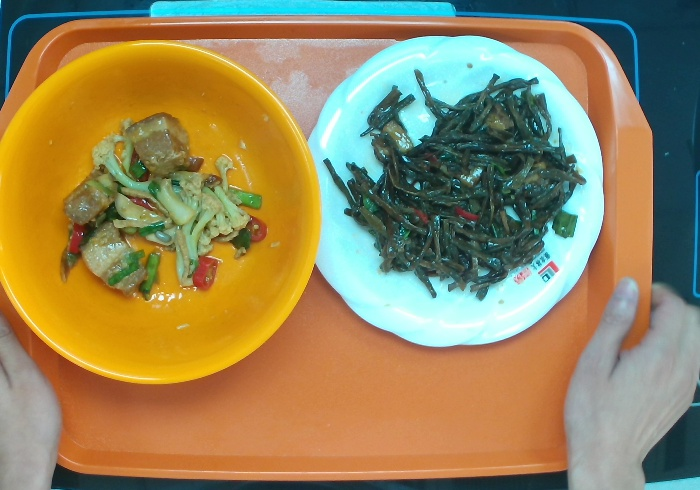ZNLD-Hua_Bian_Wan: (306, 31, 607, 349)
ZNLD-Ju_Se_Tang_Wan: (1, 35, 325, 388)
